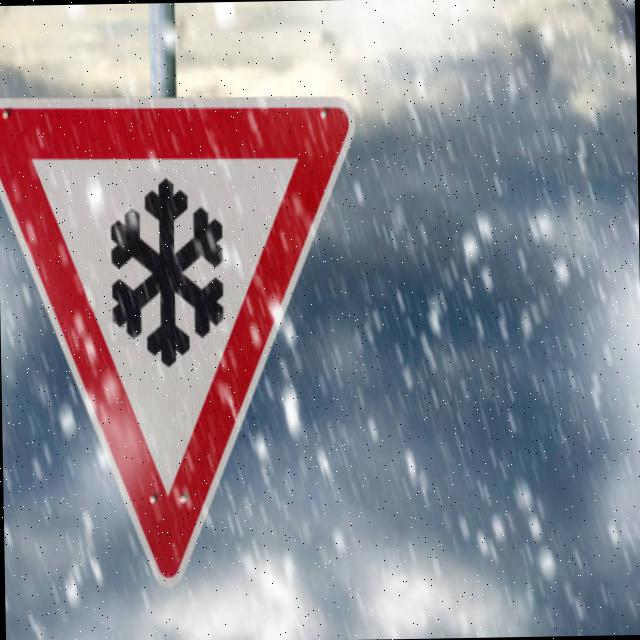snow_warning: (0, 75, 375, 598)
